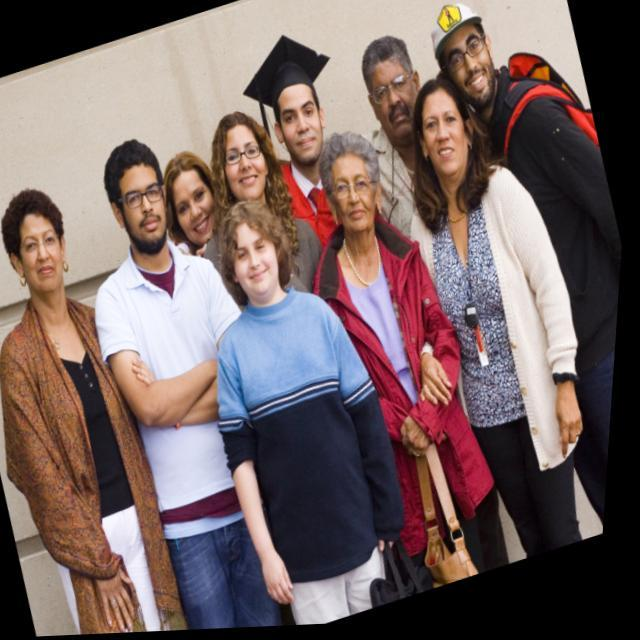Nonhelmet: (404, 80, 494, 200), (358, 24, 438, 150), (105, 129, 176, 260), (0, 177, 75, 290), (309, 130, 388, 235), (215, 203, 285, 306), (206, 108, 274, 212)
